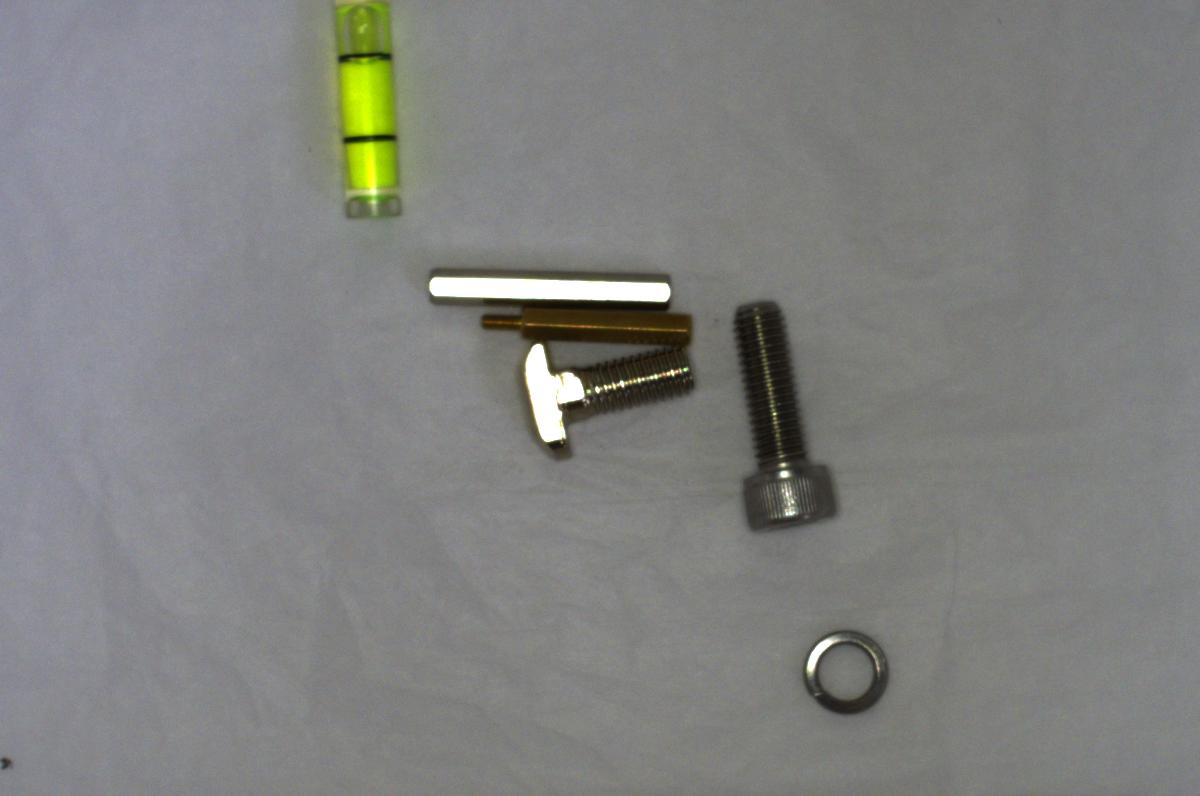Double hexagonal column: (419, 260, 671, 308)
Hexagon pillar: (472, 303, 697, 345)
Hexagon screw: (713, 293, 844, 536)
Horizontal bubble: (310, 3, 430, 229)
Spring washer: (786, 622, 892, 716)
T-shaped screw: (510, 339, 700, 462)
